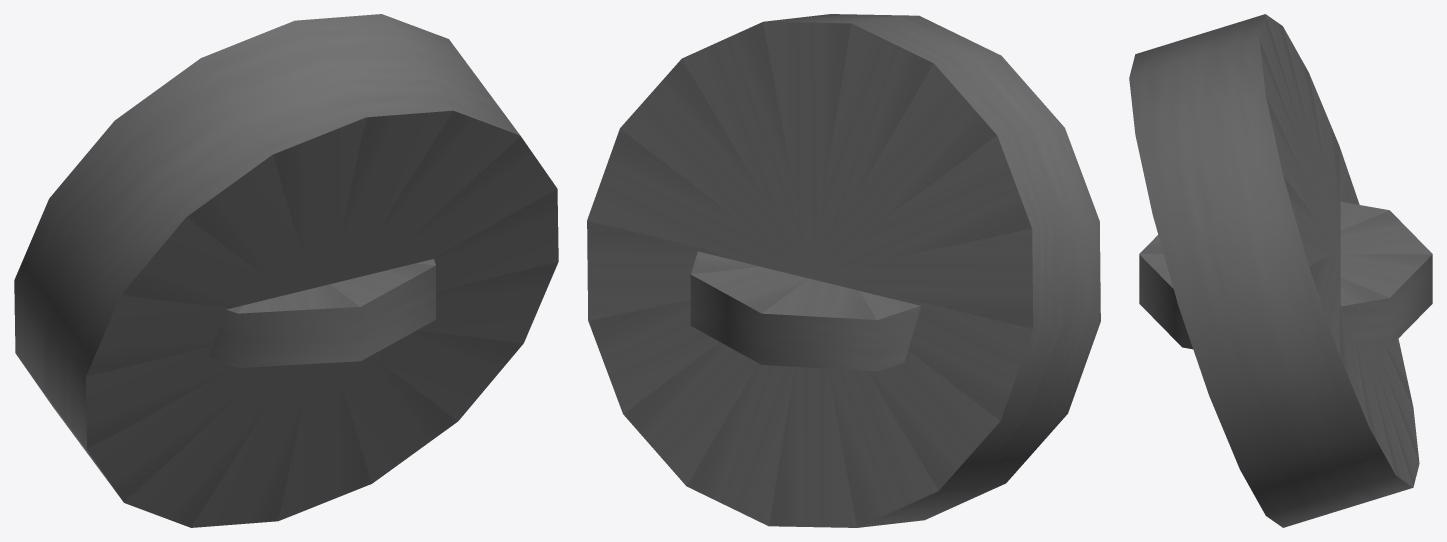
Rendered from mastarmcurve_10x2_c2_down.obj.
The picture shows the model from 3 angles, left to right: view 1: azimuth 30°, elevation 25°; view 2: azimuth 150°, elevation 25°; view 3: azimuth 270°, elevation 25°; orthographic projection. The views are drawn at different scales.
Visible parts, largest first — view 1: mastarm_10x2_c2_down; view 2: mastarm_10x2_c2_down; view 3: mastarm_10x2_c2_down.
Boxes of the visible parts, x1,y1,x2,y2 form: mastarm_10x2_c2_down: (14,14,558,527); mastarm_10x2_c2_down: (587,14,1100,527); mastarm_10x2_c2_down: (1129,14,1432,527).
Size of the model in its own units: 0.6764 by 0.7007 by 0.4136.
